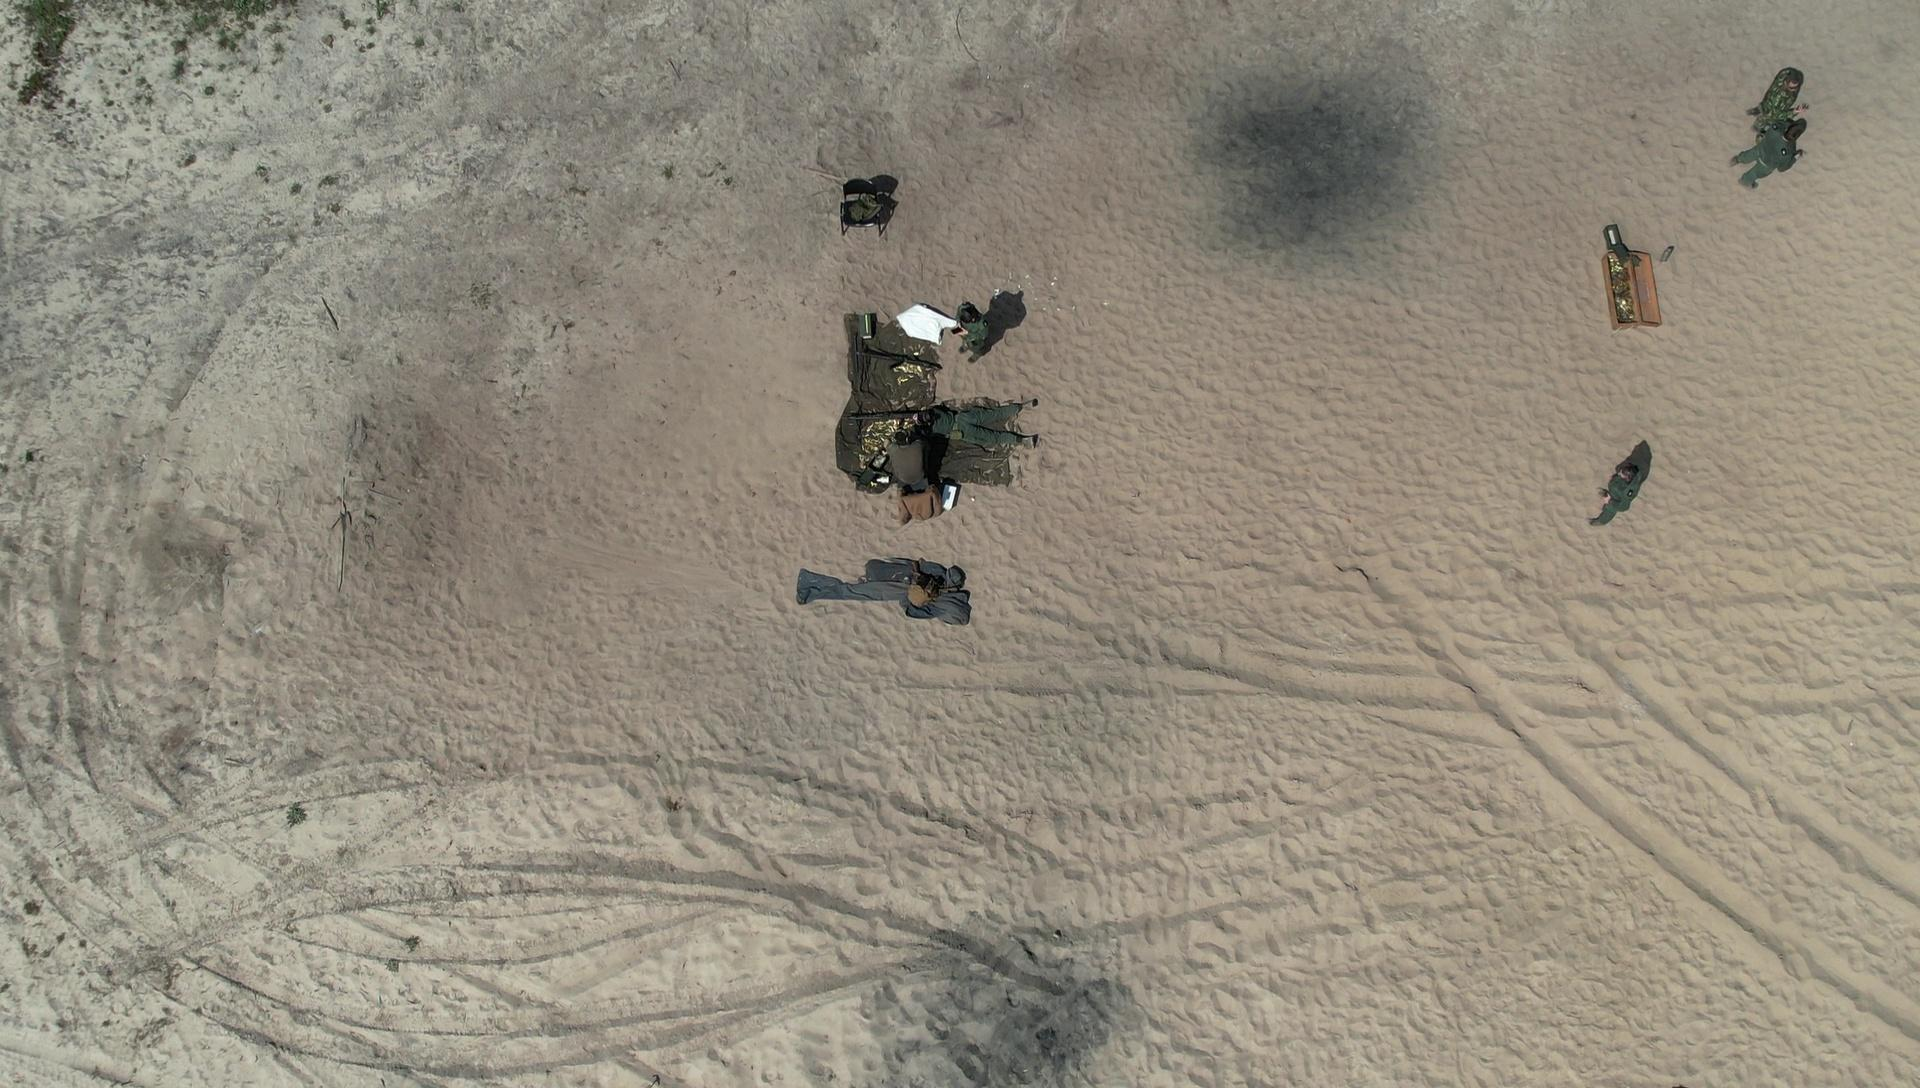Soldier: (893, 402, 1036, 462), (1731, 109, 1813, 190), (1593, 440, 1660, 530), (1742, 55, 1826, 127), (866, 423, 940, 501), (953, 291, 1023, 369)
